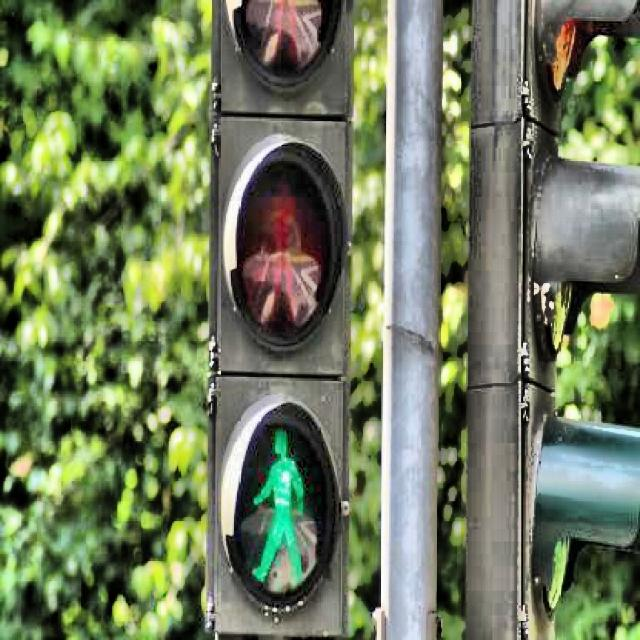semaforo pedestre: (157, 17, 398, 626), (240, 412, 329, 608)
